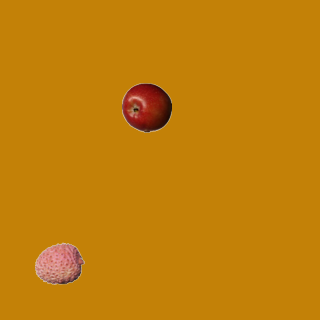Apple Braeburn: (121, 82, 171, 132)
Lychee: (34, 238, 84, 288)
